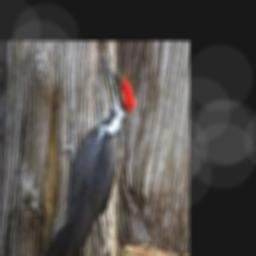Woodpecker: (38, 52, 137, 256)
